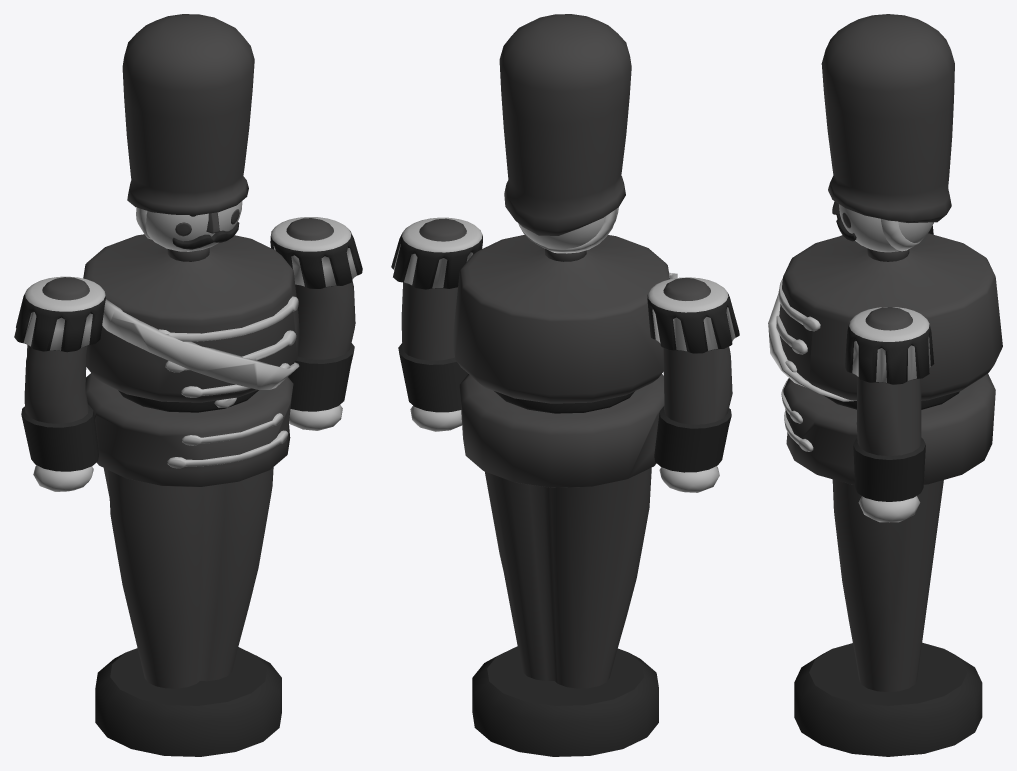
Rendered from Soldier_BN_02.fbx.
The picture shows the model from 3 angles, left to right: view 1: azimuth 30°, elevation 25°; view 2: azimuth 150°, elevation 25°; view 3: azimuth 270°, elevation 25°; orthographic projection.
Parts seen in each view (by area): view 1: Soldier_BN_02.001; view 2: Soldier_BN_02.001; view 3: Soldier_BN_02.001.
Boxes of the visible parts, bbox=[...] form: Soldier_BN_02.001: bbox=[14, 14, 362, 756]; Soldier_BN_02.001: bbox=[391, 14, 739, 756]; Soldier_BN_02.001: bbox=[768, 14, 1002, 756].
Bounding box in the file's own units: 5.39 × 10.58 × 3.25.
